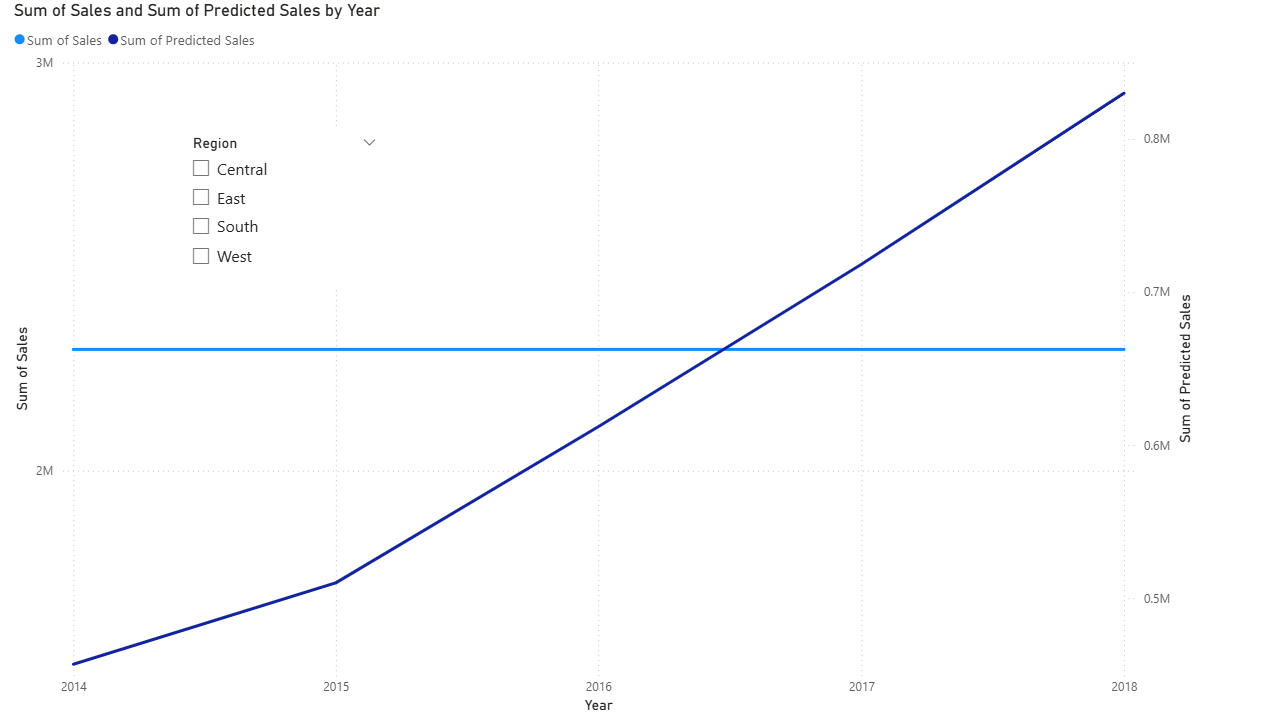

This screenshot's page, from the dashboard's own definition file:
{"tool":"powerbi","page":{"name":"Page 1","canvas":[1280,720],"ordinal":0},"visuals":[{"type":"lineChart","fields":{"Category":["forecast_data.Date.Variation.Date Hierarchy.Year","forecast_data.Date.Variation.Date Hierarchy.Quarter","forecast_data.Date.Variation.Date Hierarchy.Month","forecast_data.Date.Variation.Date Hierarchy.Day"],"Y":["Sum(cleaned_data.Sales)"],"Y2":["Sum(forecast_data.Predicted Sales)"]},"box":[8.3,0,1189.2,718.5],"z":0},{"type":"slicer","fields":{"Values":["cleaned_data.Region"]},"box":[179.8,130.4,208.6,157.8],"z":1}]}

Visuals, with their boxes in screenshot pixels (x1, y1, x2, y2), scaled from the page's 1280x720 canvas onto the 1280x720 screenshot:
lineChart - forecast_data.Date.Variation.Date Hierarchy.Year x forecast_data.Date.Variation.Date Hierarchy.Quarter: {"left": 8, "top": 0, "right": 1198, "bottom": 718}
slicer - cleaned_data.Region: {"left": 180, "top": 130, "right": 388, "bottom": 288}
